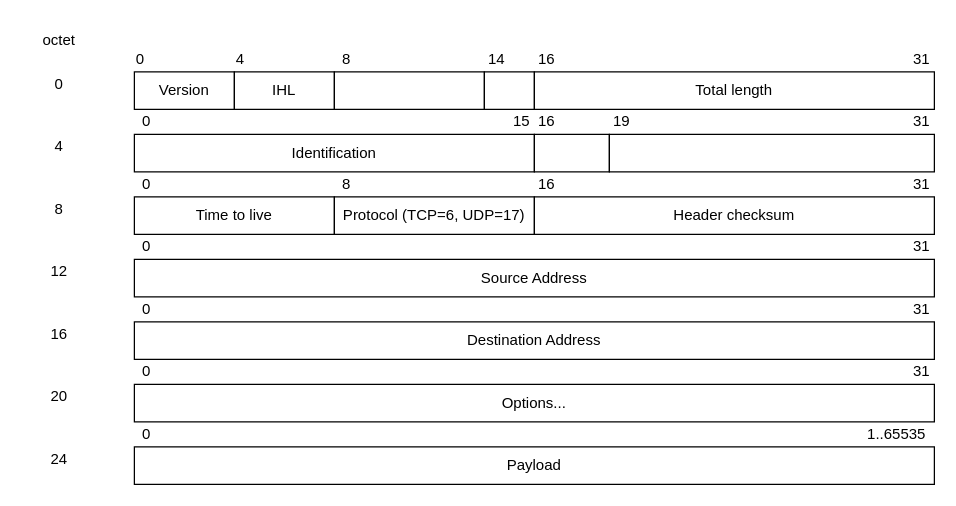
Image size: 956x506. Some labels were removed from this diagram. Here are the shapes that lost their labels. From the top down, the centre of each, then its label:
At (x=408, y=90): "DSCP (ToS)".
At (x=508, y=90): "ECN".
At (x=571, y=152): "Flags".
At (x=771, y=152): "Fragment offset".
